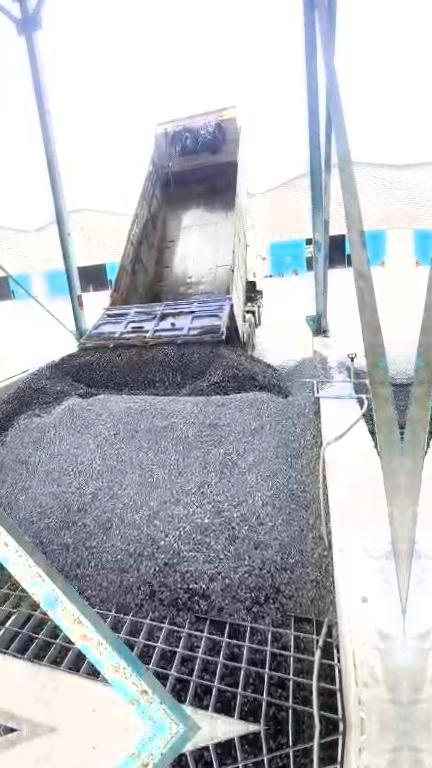gravel: (0, 345, 336, 621), (147, 210, 167, 302), (0, 525, 25, 593), (362, 397, 381, 460), (389, 375, 403, 449)
sand: (0, 355, 16, 397)
